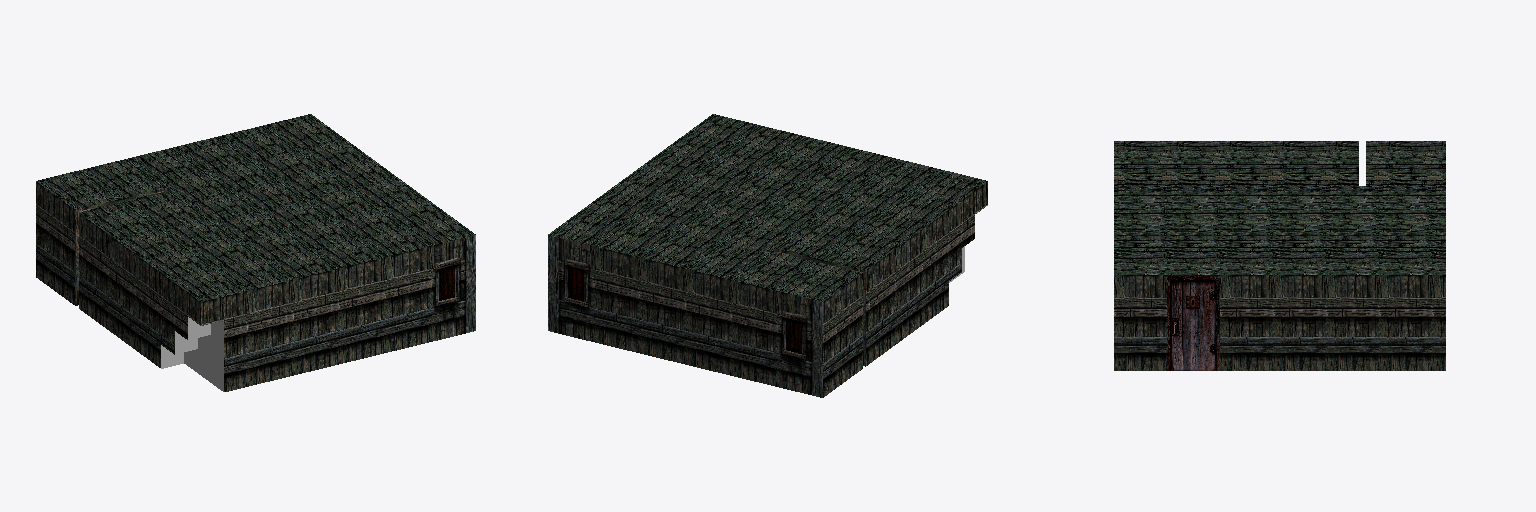
The picture shows the model from 3 angles: view 1: azimuth 30°, elevation 25°; view 2: azimuth 150°, elevation 25°; view 3: azimuth 270°, elevation 25°; orthographic projection.
Parts seen in each view (by area): view 1: Room1; view 2: Room1; view 3: Room1.
Part boxes in pixels (x1,y1,x2,y2): Room1: (36,114,475,391); Room1: (548,114,987,397); Room1: (1114,141,1445,370).
Size of the model in its own units: 768 by 256 by 800.
Materials: 10 (9 with a texture image).